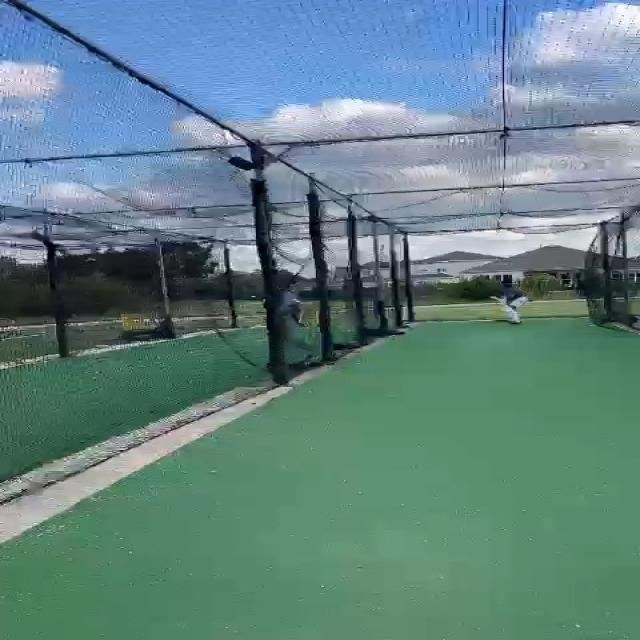batsman: (488, 280, 530, 325)
